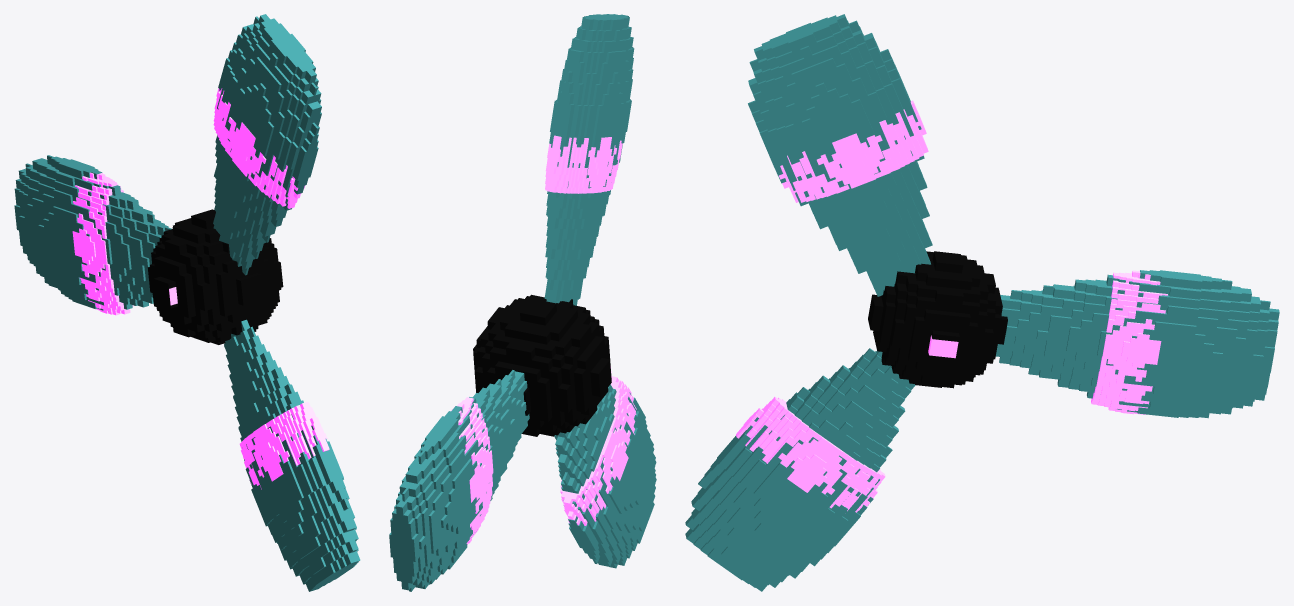
File: engel4.fbx
The picture shows the model from 3 angles, left to right: view 1: azimuth 30°, elevation 25°; view 2: azimuth 150°, elevation 25°; view 3: azimuth 270°, elevation 25°; orthographic projection. The views are drawn at different scales.
Visible parts, largest first — view 1: Cylinder.017, Cylinder.015, Cylinder.019, Sphere.002, Cylinder.020, Cylinder.016, Cylinder.018; view 2: Cylinder.019, Cylinder.017, Sphere.002, Cylinder.015, Cylinder.016, Cylinder.018, Cylinder.020; view 3: Cylinder.017, Cylinder.019, Cylinder.015, Sphere.002, Cylinder.016, Cylinder.020, Cylinder.018.
Boxes of the visible parts, x1,y1,x2,y2 form: Cylinder.017: [213, 14, 321, 275]; Cylinder.015: [224, 319, 360, 591]; Cylinder.019: [14, 155, 171, 310]; Sphere.002: [147, 209, 283, 344]; Cylinder.020: [72, 171, 133, 315]; Cylinder.016: [239, 401, 329, 489]; Cylinder.018: [213, 88, 305, 208]; Cylinder.019: [389, 370, 529, 591]; Cylinder.017: [544, 14, 634, 305]; Sphere.002: [473, 294, 611, 436]; Cylinder.015: [554, 384, 656, 568]; Cylinder.016: [560, 376, 636, 525]; Cylinder.018: [545, 135, 622, 193]; Cylinder.020: [450, 397, 493, 544]; Cylinder.017: [748, 14, 932, 296]; Cylinder.019: [995, 270, 1279, 418]; Cylinder.015: [685, 348, 915, 591]; Sphere.002: [868, 251, 1007, 388]; Cylinder.016: [736, 397, 885, 512]; Cylinder.020: [1091, 270, 1167, 414]; Cylinder.018: [779, 100, 928, 202].
Size of the model in its own units: 149 by 676 by 640.
